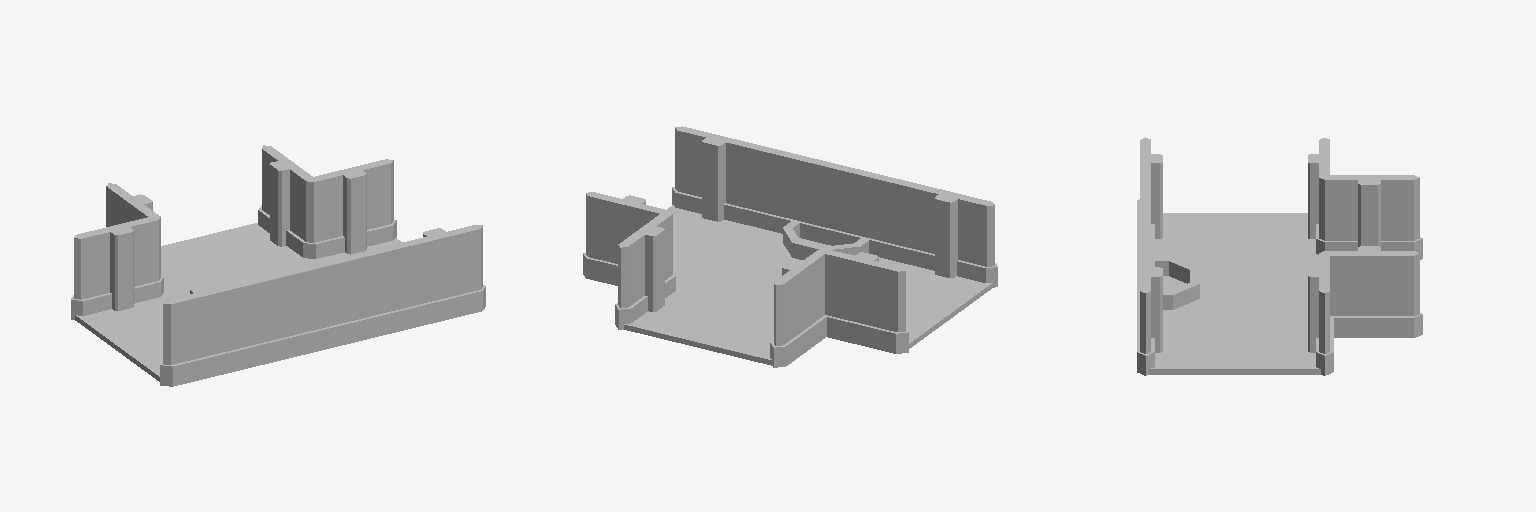
The model's file is intersection_3way_02.obj.
3 views of the same model, side by side, from view 1: azimuth 30°, elevation 25°; view 2: azimuth 150°, elevation 25°; view 3: azimuth 270°, elevation 25° (orthographic).
Visible parts, largest first — view 1: wall_02_22, wall_02_18, wall_02_21, wall_02_23, wall_01_25, wall_01_24, floor_04_15, wall_02_19, floor_04_14, wall_02_20, floor_01_12; view 2: wall_02_21, wall_02_22, wall_02_23, floor_01_12, wall_01_24, wall_01_25, floor_04_15, wall_02_20, wall_02_19, wall_02_18, floor_04_14, floor_04_13 (+1 smaller); view 3: floor_01_12, wall_02_19, wall_02_20, floor_04_13, floor_04_14, wall_02_23, wall_02_18, wall_02_21, wall_02_22, fountain_01_27, wall_01_25.
Boxes of the visible parts, <box> form: wall_02_22: <box>160,282,250,386</box>; wall_02_18: <box>303,159,396,258</box>; wall_02_21: <box>71,216,162,319</box>; wall_02_23: <box>397,225,485,329</box>; wall_01_25: <box>243,263,327,367</box>; wall_01_24: <box>318,244,404,348</box>; floor_04_15: <box>161,223,307,291</box>; wall_02_19: <box>258,145,312,257</box>; floor_04_14: <box>75,294,168,381</box>; wall_02_20: <box>106,183,163,295</box>; floor_01_12: <box>163,258,324,298</box>; wall_02_21: <box>819,249,908,353</box>; wall_02_22: <box>908,183,997,287</box>; wall_02_23: <box>672,126,761,225</box>; floor_01_12: <box>674,225,912,316</box>; wall_01_24: <box>752,146,839,244</box>; wall_01_25: <box>829,164,912,263</box>; floor_04_15: <box>624,293,773,365</box>; wall_02_20: <box>770,249,827,367</box>; wall_02_19: <box>615,212,675,329</box>; wall_02_18: <box>583,192,674,285</box>; floor_04_14: <box>906,266,992,348</box>; floor_04_13: <box>667,205,752,277</box>; floor_01_12: <box>1155,251,1318,330</box>; wall_02_19: <box>1320,246,1422,337</box>; wall_02_20: <box>1316,175,1422,259</box>; floor_04_13: <box>1149,329,1320,374</box>; floor_04_14: <box>1155,213,1317,255</box>; wall_02_23: <box>1137,251,1162,375</box>; wall_02_18: <box>1308,253,1333,375</box>; wall_02_21: <box>1308,138,1329,240</box>; wall_02_22: <box>1137,137,1162,238</box>; fountain_01_27: <box>1151,257,1199,309</box>; wall_01_25: <box>1137,178,1154,277</box>.
Bounding box in the file's own units: 4.21 × 1 × 3.21.